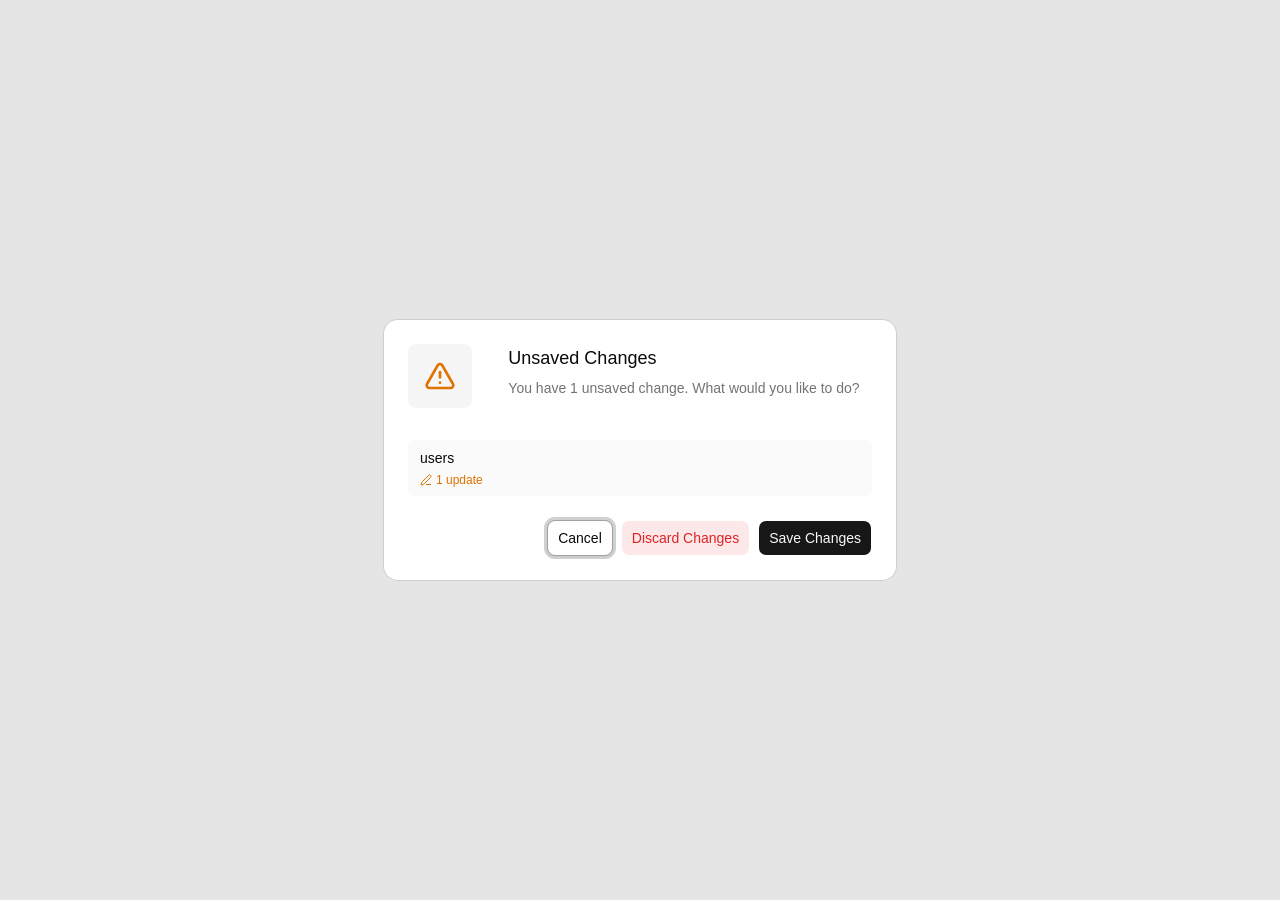
Test case: unsavedChangesDialog › error handling › should allow retry after save fails
Later steps or results of the test are not shown.
// First attempt fails
Click the button "Save Changes": (815, 538) [758,520,872,556]
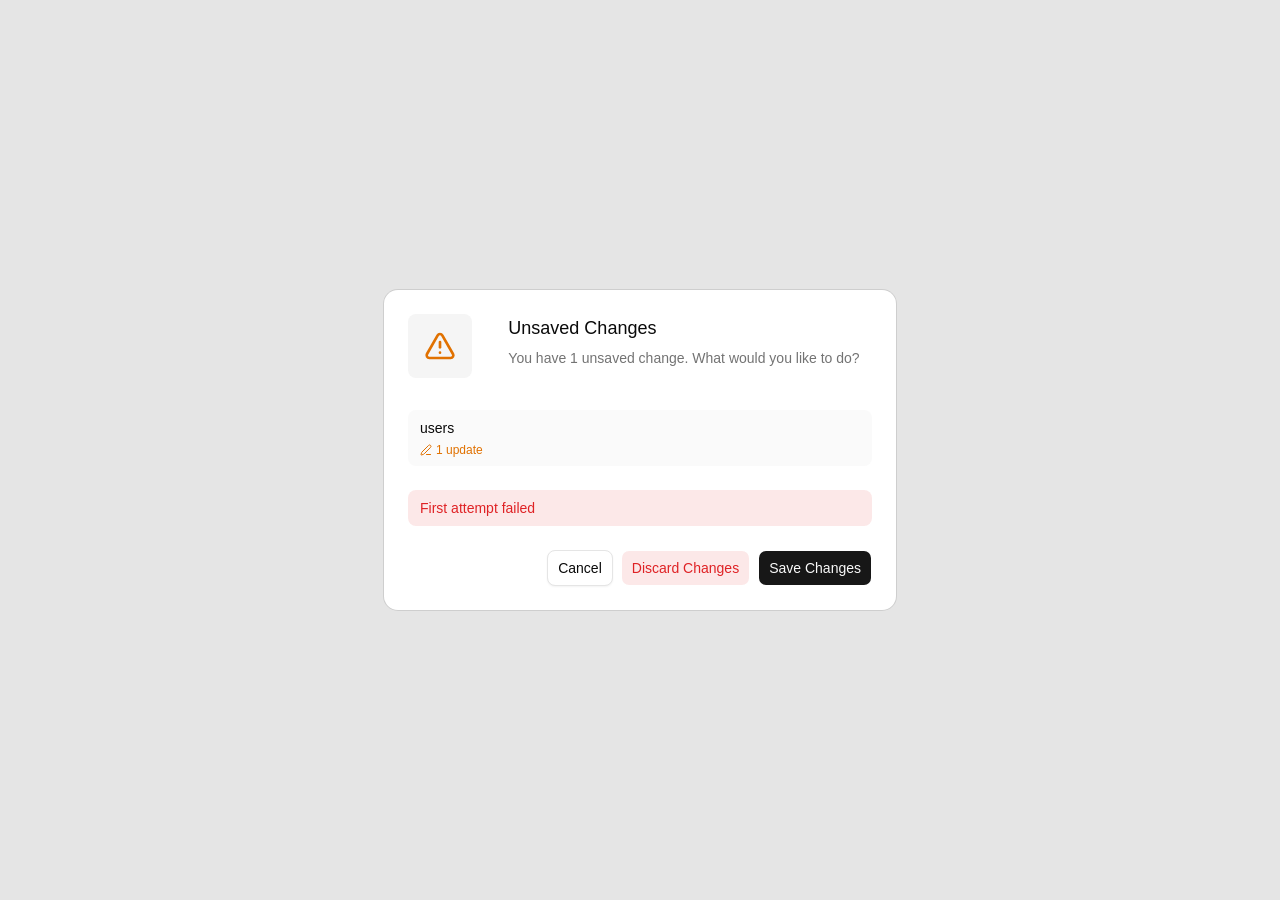
Expected: the text "First attempt failed" is shown, [408,490,872,526]
